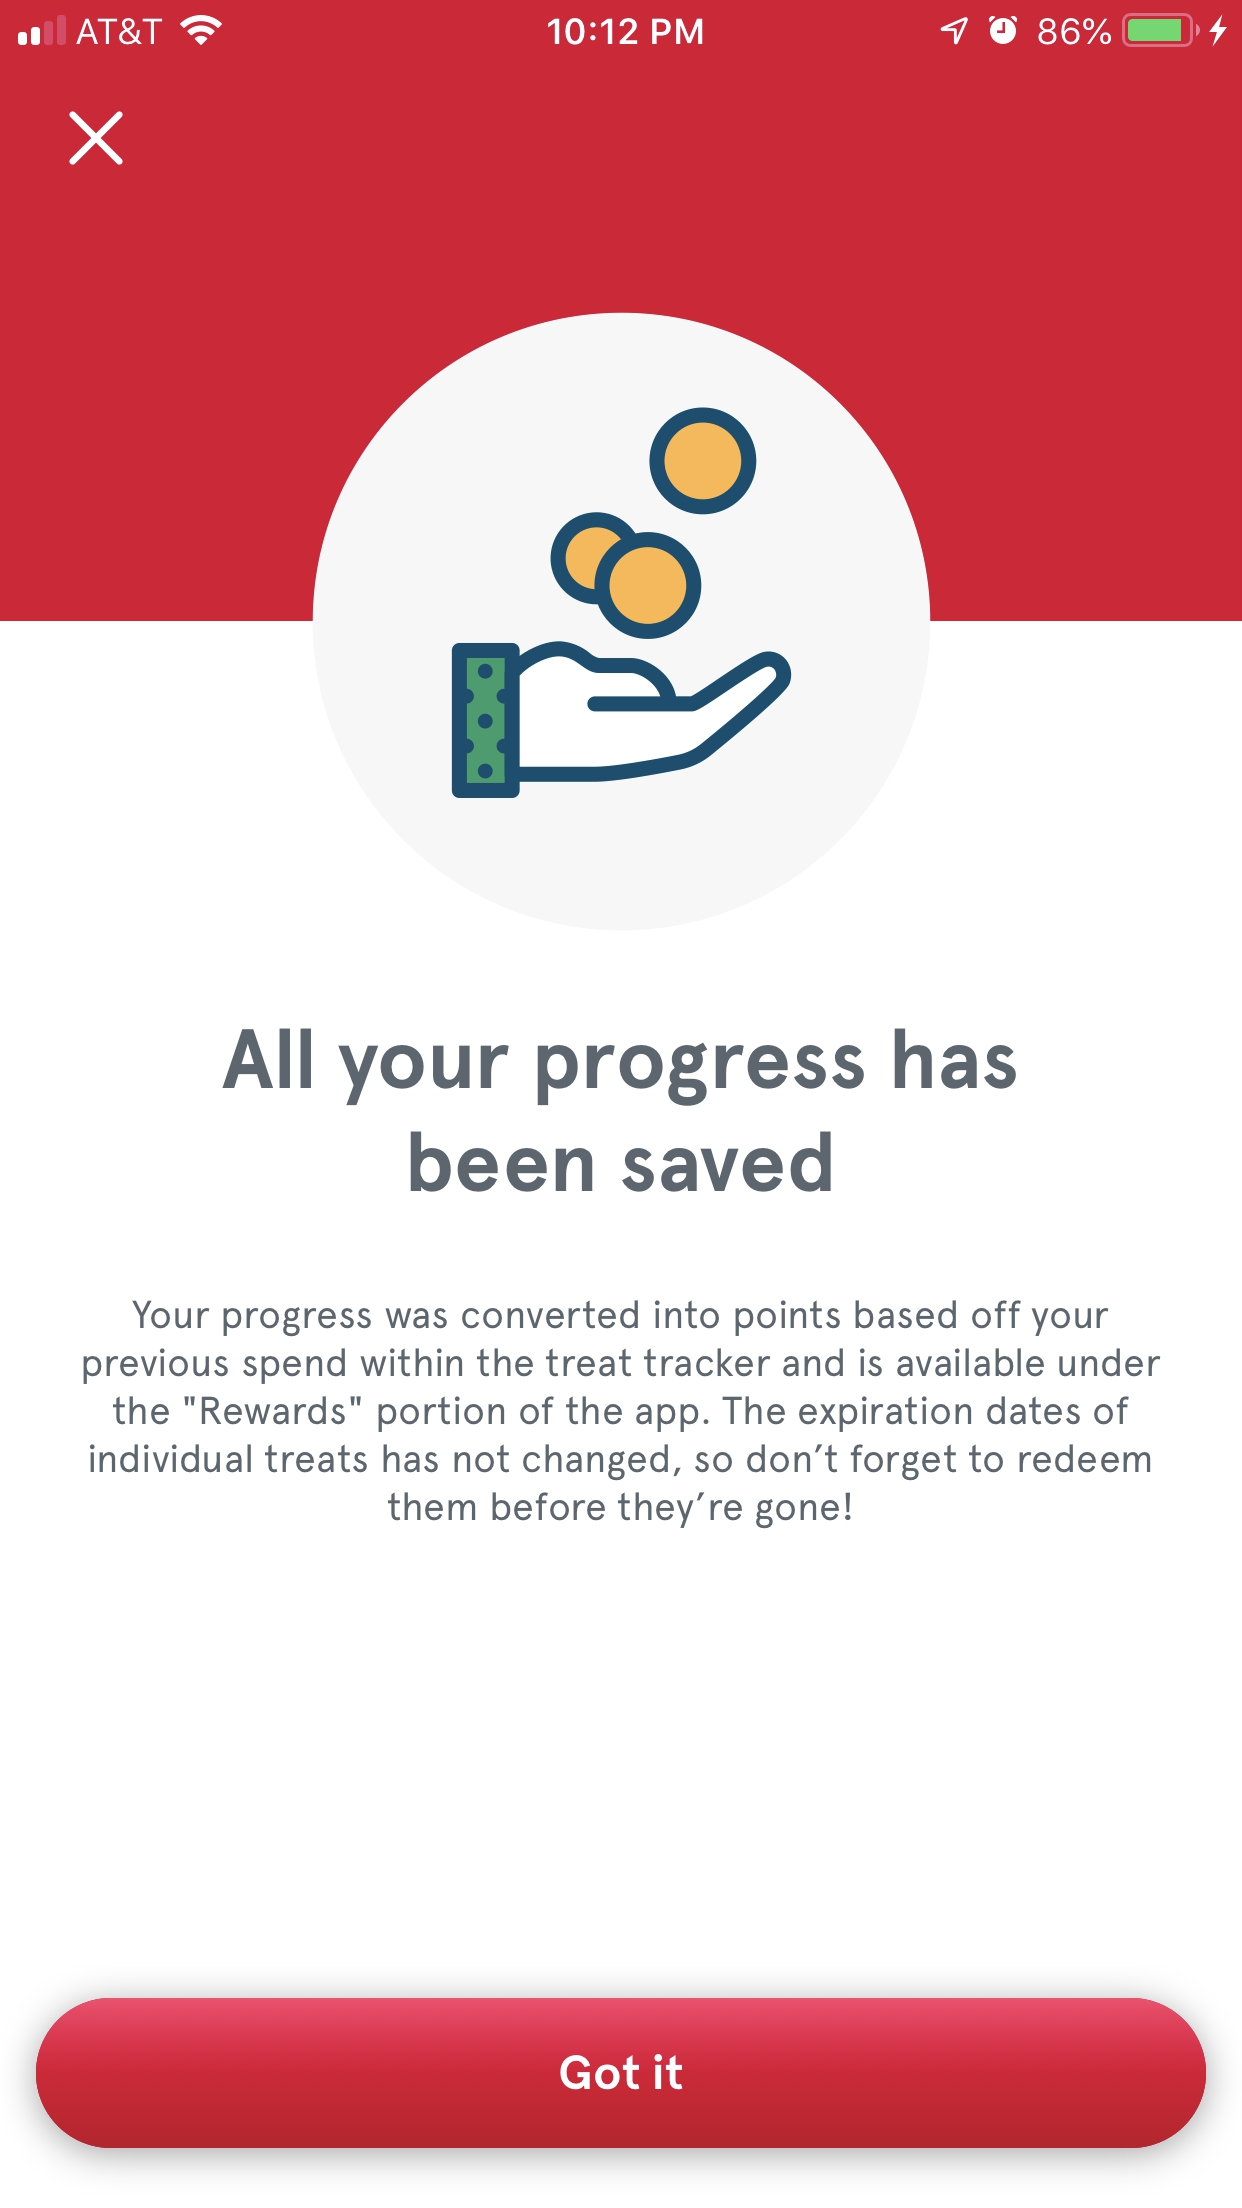Icon: (70, 111, 126, 167)
Image: (452, 406, 793, 801)
Text: (83, 1300, 1162, 1530), (221, 1027, 1018, 1193)
TextButton: (36, 1997, 1207, 2149)
UpperTaskBar: (2, 2, 1242, 50)
